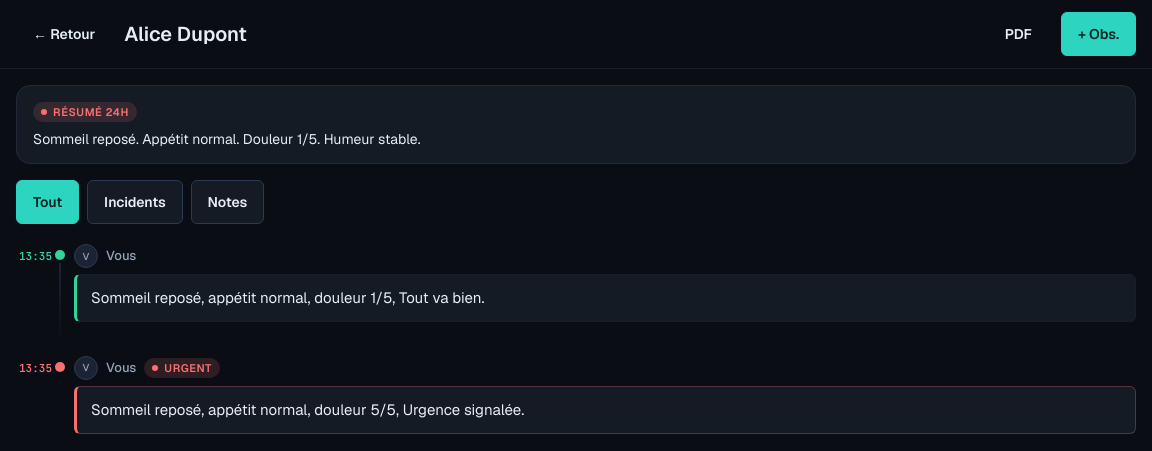
FeedPage › Incidents filter hides green observations and shows red ones
Expected: the text "Sommeil reposé, appétit normal, douleur 1/5, Tout va bien." is shown, [91,288,484,307]
Click the button "Incidents".
click(135, 202)  # box [87,180,183,224]
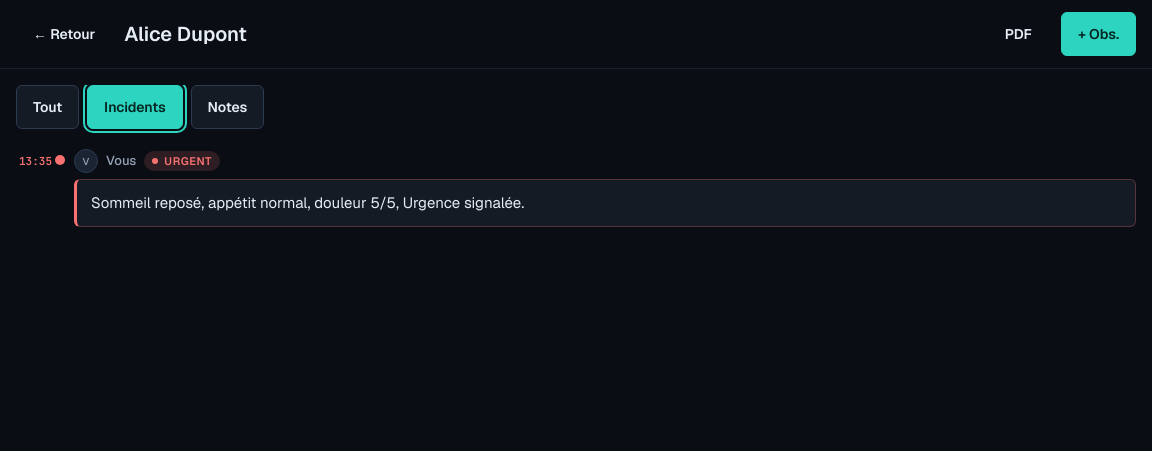
Expected: the text "Urgence signalée" is shown, [91,193,524,212]
Result: the button "Tout va bien" is gone
